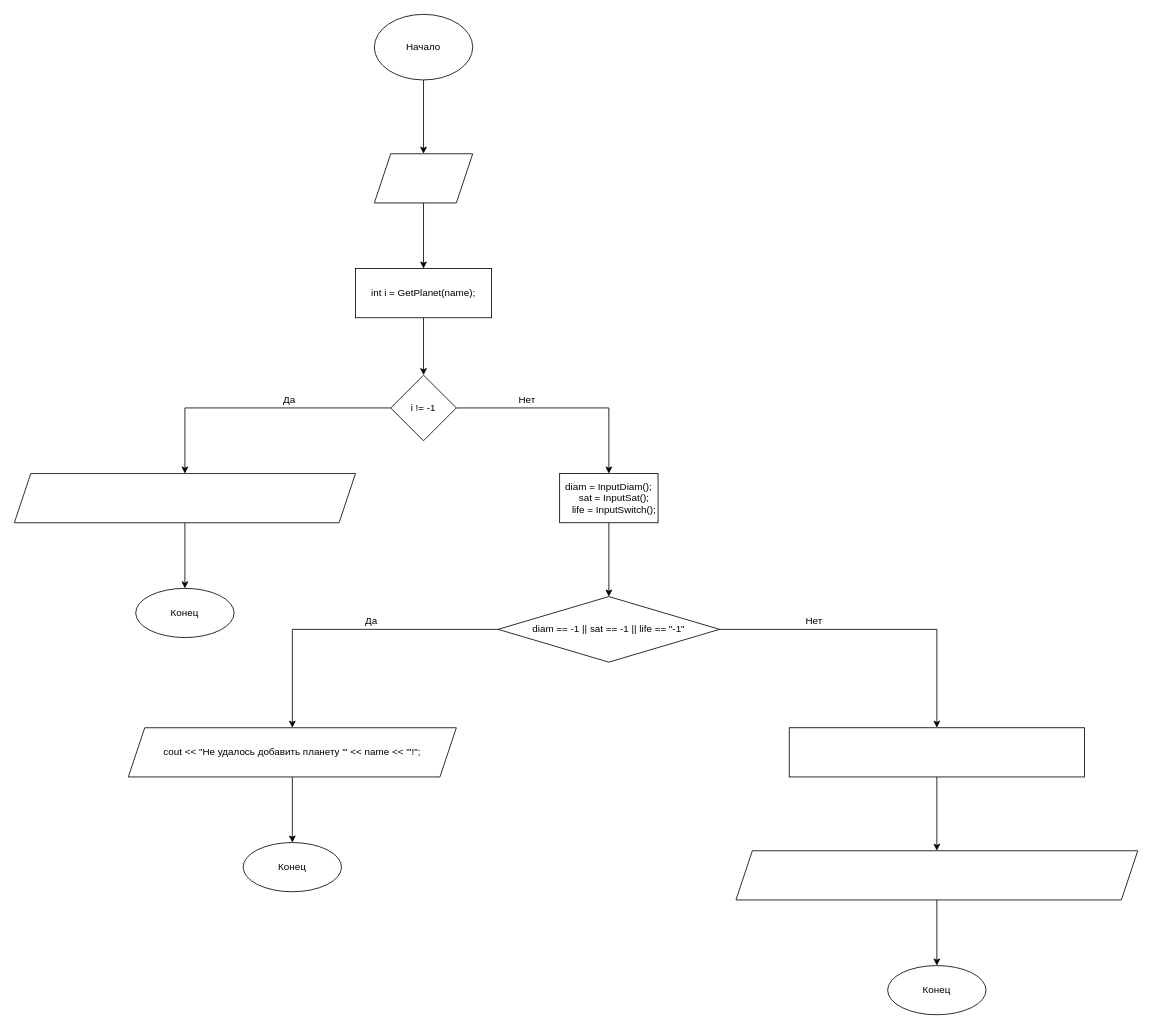
This 1152x1029 diagram has some shape labels left out. The shapes that lost their labels are listed below. From the top down, each one's centre as x and y in pixels, then its label:
point (423, 178): cin >> name;
point (184, 498): cout << "Планета с названием '" << name << "' уже существует!";
point (936, 752): planets[counter] = Planet(name, diam, sat, life); counter++;
point (936, 875): cout << "Планета '" << name << "' успешно создана!'" << endl;
